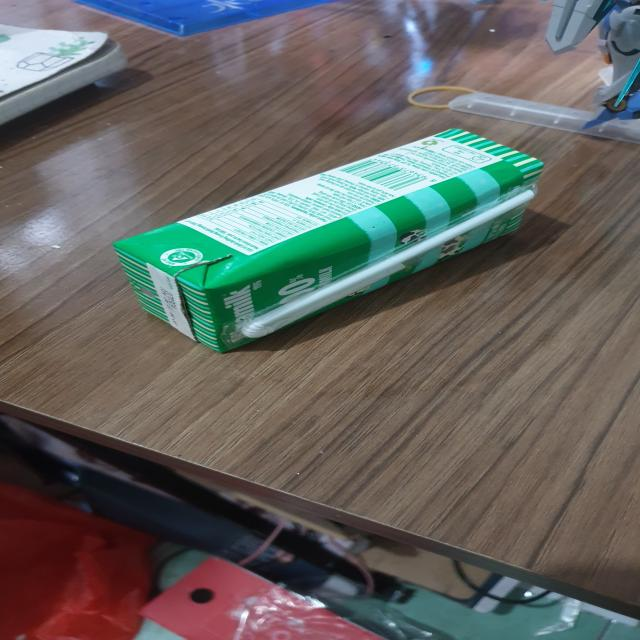Vina: (117, 126, 546, 357)
